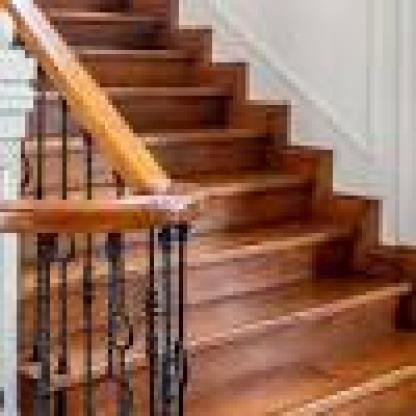stair: (21, 0, 416, 413)
